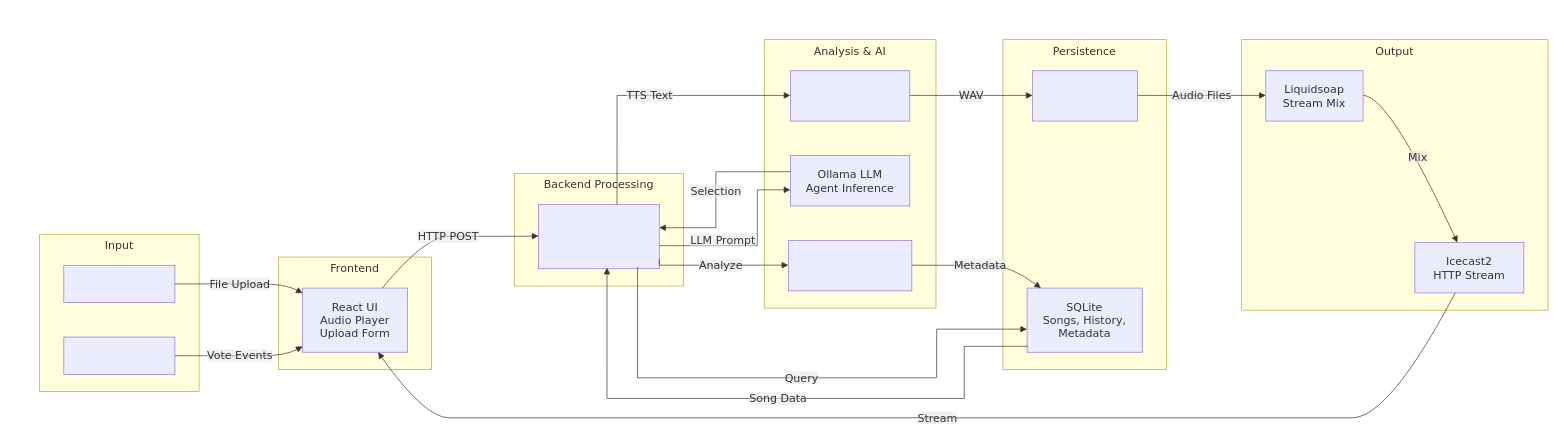
The diagram is 1560 pixels wide and 436 high, and some of its shapes have lost their labels. The centre of each missing label's shape, as x and y in pixels:
Admin Upload: (119,284)
Audio Analysis BPM, Key, Mood: (850,265)
Chatterbox TTS Voice Gen: (850,95)
File Cache MP3s, WAVs: (1084,95)
Go Orchestrator Request Router Timing Engine: (598,236)
Listener Votes: (119,355)
